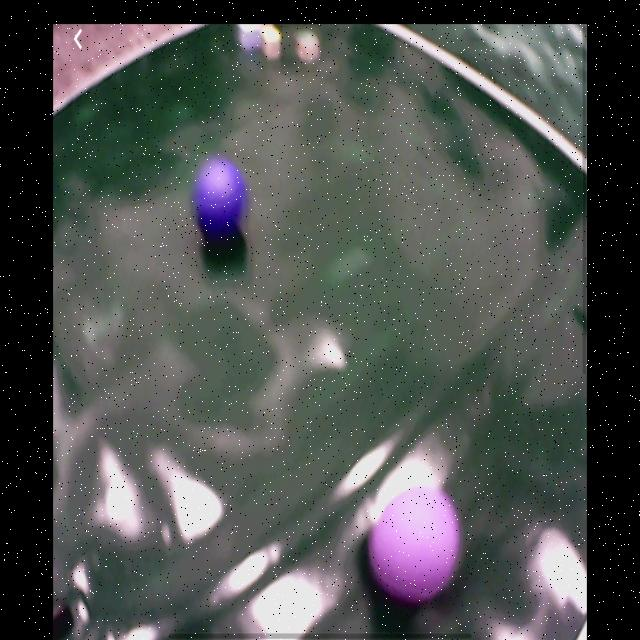ball: (368, 482, 463, 603), (192, 159, 245, 236)
